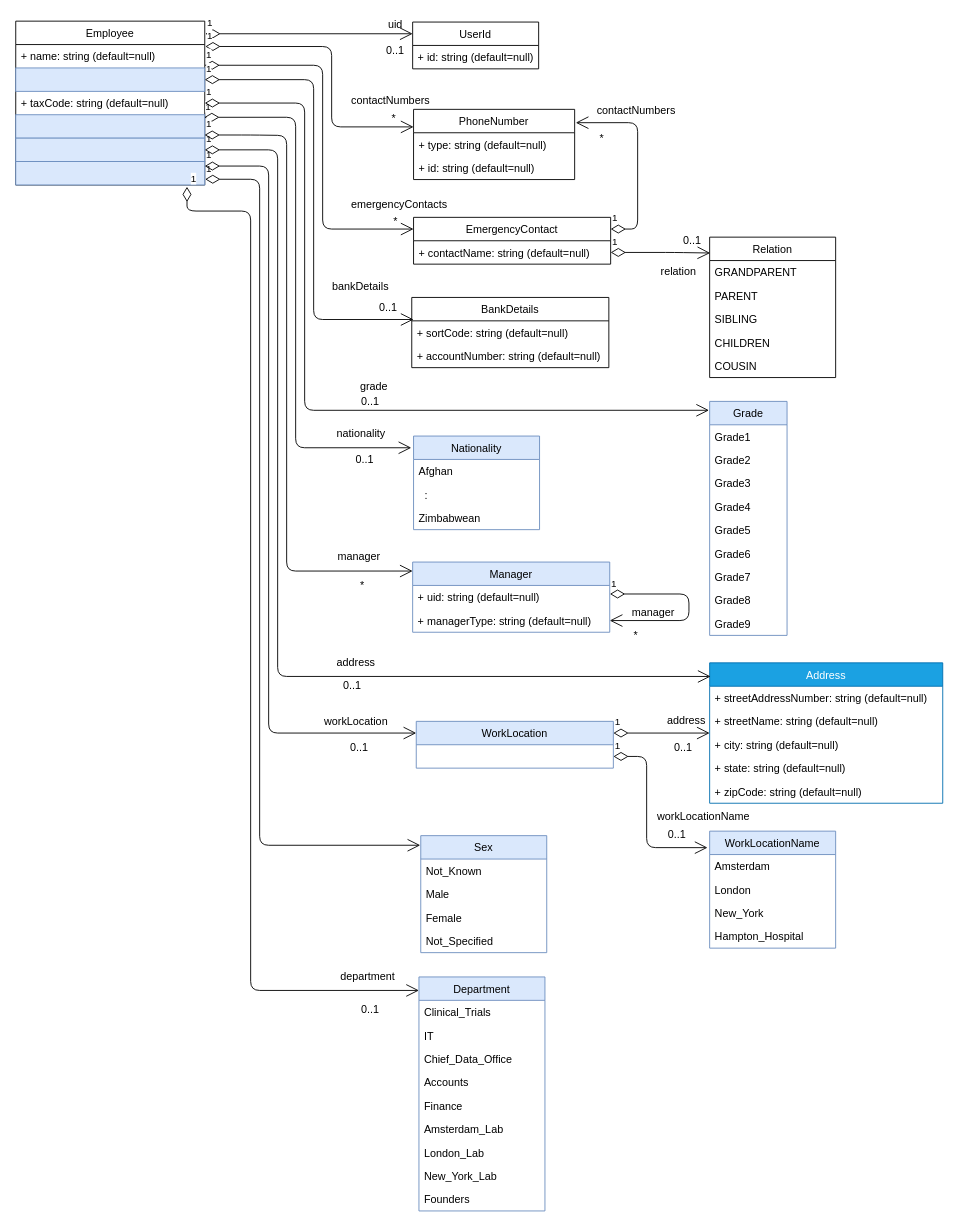
This 959x1229 diagram has some shape labels left out. Each missing label, with the centre of its shape:
"+ dateOfBirth: string (default=null)" goes at [110,79].
"+ hireDate: string (default=null)" goes at [110,126].
"+ salaryAmount: int" goes at [110,149].
"+ salaryBonus: int" goes at [110,173].
